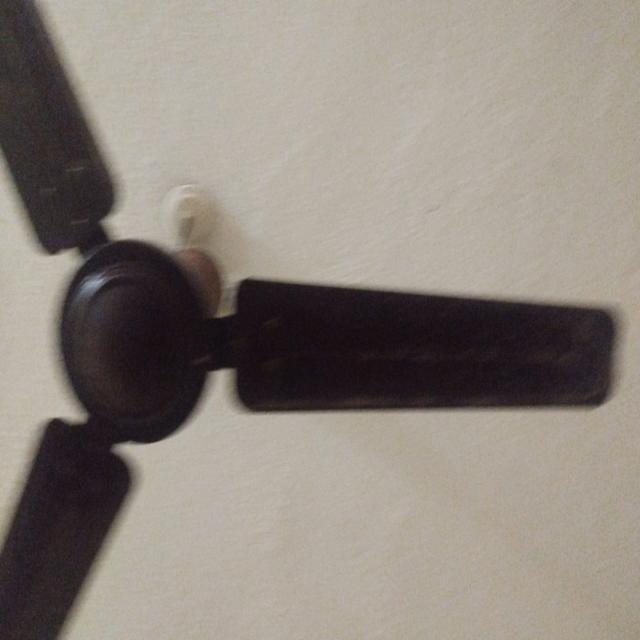fan_off: (4, 0, 612, 637)
